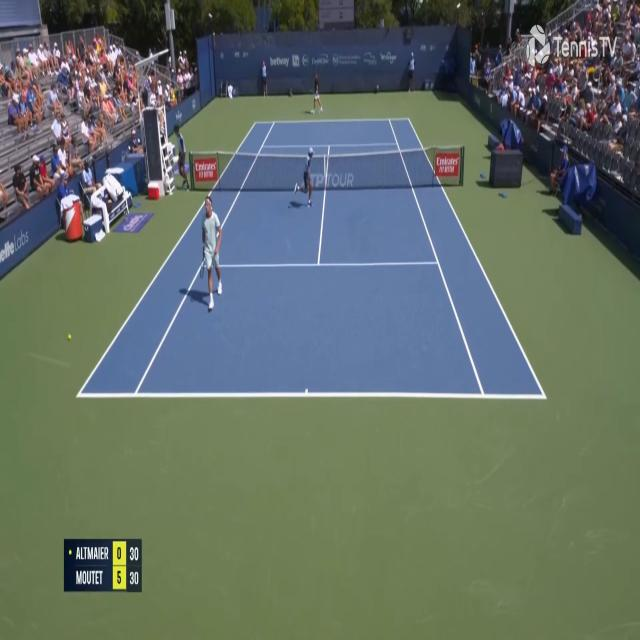tennis-player: (199, 193, 224, 314), (310, 70, 323, 114)
